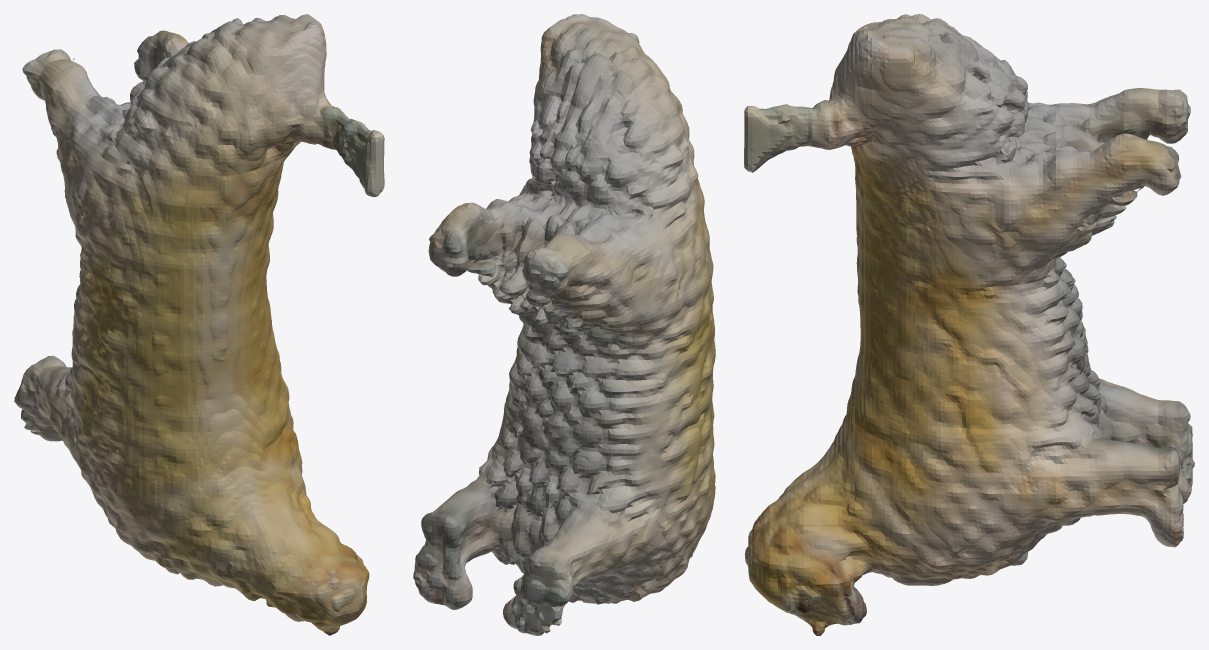
3 views of the same model, side by side, from view 1: azimuth 30°, elevation 25°; view 2: azimuth 150°, elevation 25°; view 3: azimuth 270°, elevation 25° (orthographic). The views are drawn at different scales.
Visible parts, largest first — view 1: world; view 2: world; view 3: world.
Boxes of the visible parts, x1,y1,x2,y2 form: world: (14,14,384,635); world: (413,14,715,635); world: (744,14,1194,635).
Size of the model in its own units: 0.3682 by 1.06 by 0.72.
